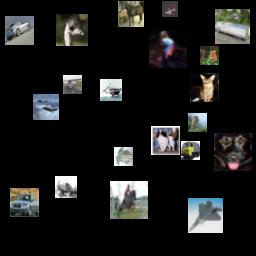airplane: (188, 198, 223, 233), (33, 94, 59, 120), (55, 176, 77, 198), (63, 75, 82, 94), (162, 1, 178, 17)
automobile: (5, 16, 34, 45), (10, 188, 39, 217)
bird: (149, 30, 187, 68), (56, 14, 88, 46), (188, 113, 207, 132)
cat: (190, 73, 219, 102), (200, 46, 219, 65)
dog: (214, 133, 252, 171), (151, 126, 180, 155)
frog: (114, 147, 133, 166)
ship: (100, 79, 122, 101)
truck: (215, 9, 250, 44), (181, 141, 200, 160)
